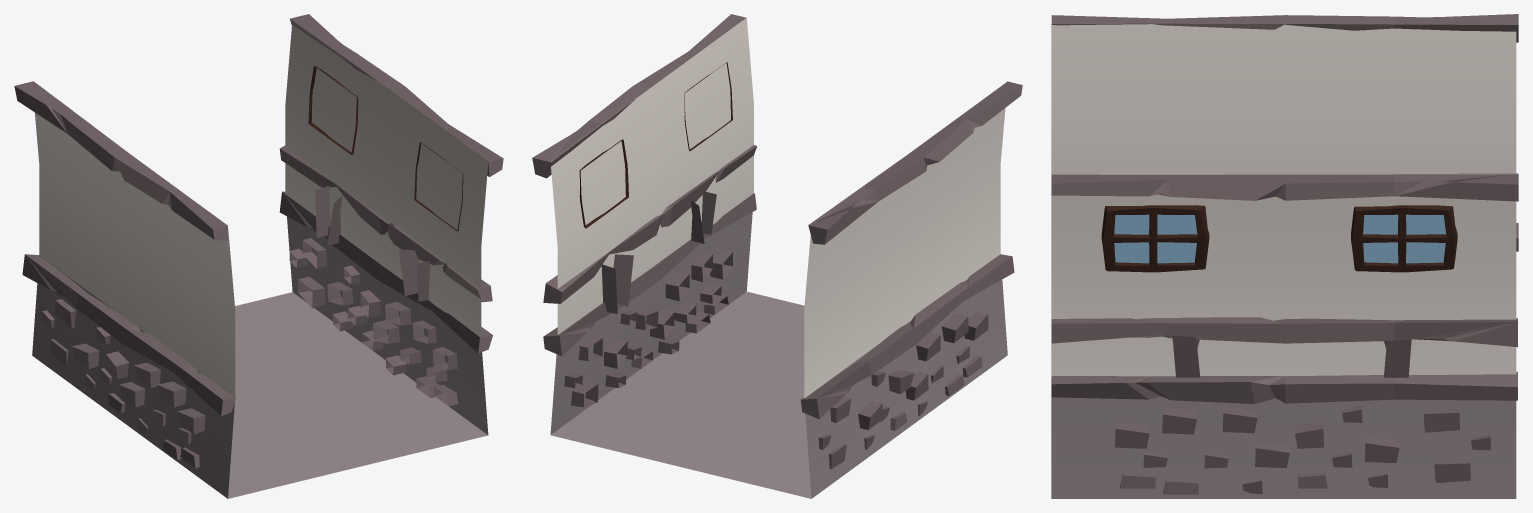
Rendered from SM_L_R_Home_Base.fbx.
3 views of the same model, side by side, from view 1: azimuth 30°, elevation 25°; view 2: azimuth 150°, elevation 25°; view 3: azimuth 270°, elevation 25° (orthographic). The views are drawn at different scales.
Parts seen in each view (by area): view 1: SM_L_R_Home_Base; view 2: SM_L_R_Home_Base; view 3: SM_L_R_Home_Base.
Boxes of the visible parts, x1=… form: SM_L_R_Home_Base: x1=14, y1=14, x2=503, y2=498; SM_L_R_Home_Base: x1=532, y1=14, x2=1022, y2=498; SM_L_R_Home_Base: x1=1051, y1=14, x2=1518, y2=498.
Bounding box in the file's own units: 3.41 × 3.01 × 3.92.
